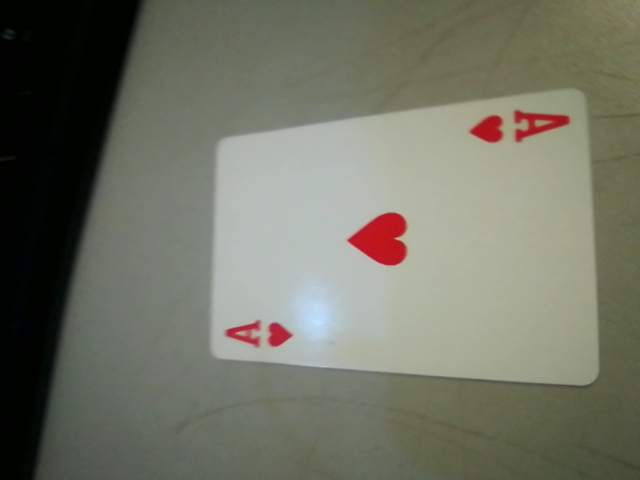hx a: (460, 104, 576, 149)
